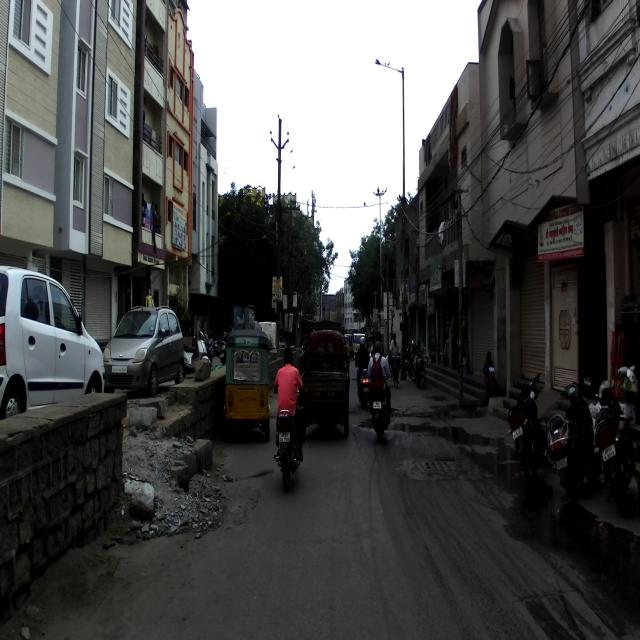autorickshaw: (294, 320, 350, 438)
car: (0, 261, 105, 421), (102, 304, 185, 398)
motorcycle: (594, 356, 638, 496), (506, 367, 545, 491), (273, 385, 307, 493)
scooter: (543, 375, 596, 494)
